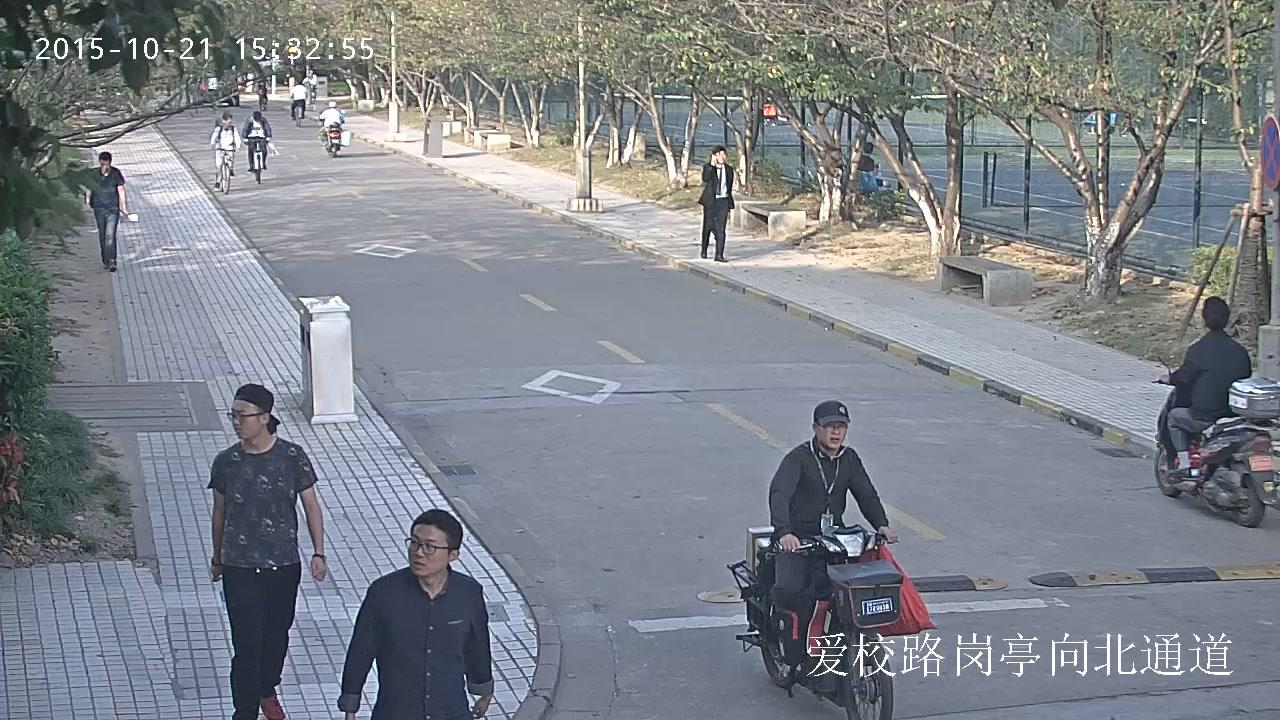face: (409, 523, 447, 575), (232, 401, 261, 438), (818, 424, 846, 448), (716, 151, 726, 163), (101, 159, 110, 171), (226, 117, 232, 127), (254, 119, 261, 123)
